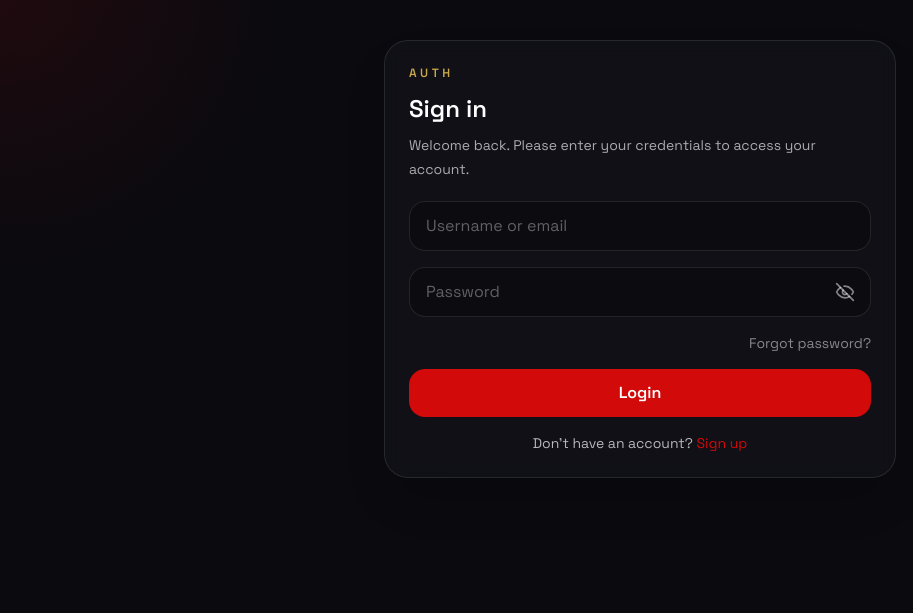
LoginPage › shows resend UI for USER_DISABLED error
The width and height of the screenshot is (913, 613).
Type "unverified" into the field with placeholder "Username or email" at (640, 226), box [409,201,871,251]
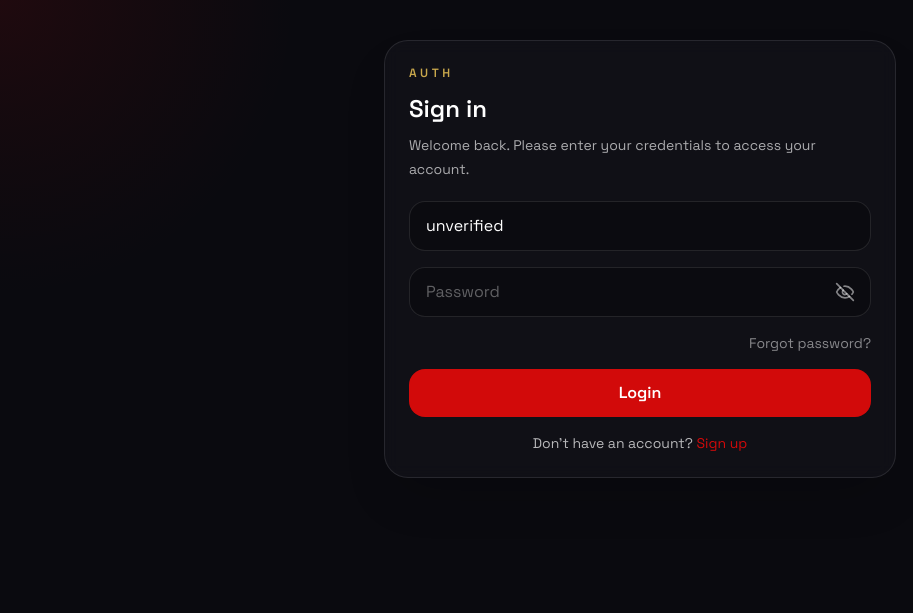
Type "pass" into the password field with placeholder "Password" at (640, 292), box [409,267,871,317]
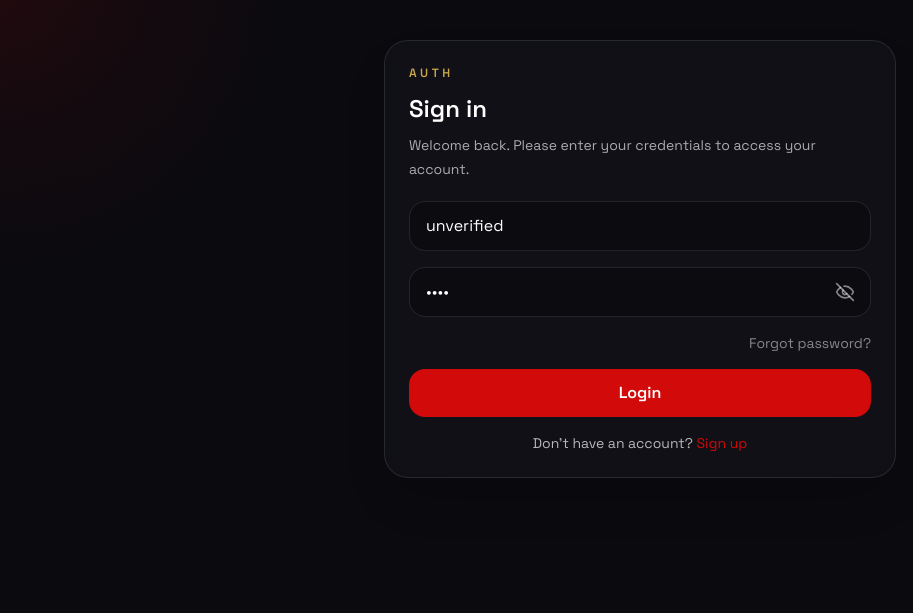
Click the button "Login" at (640, 393), box [409,369,871,417]
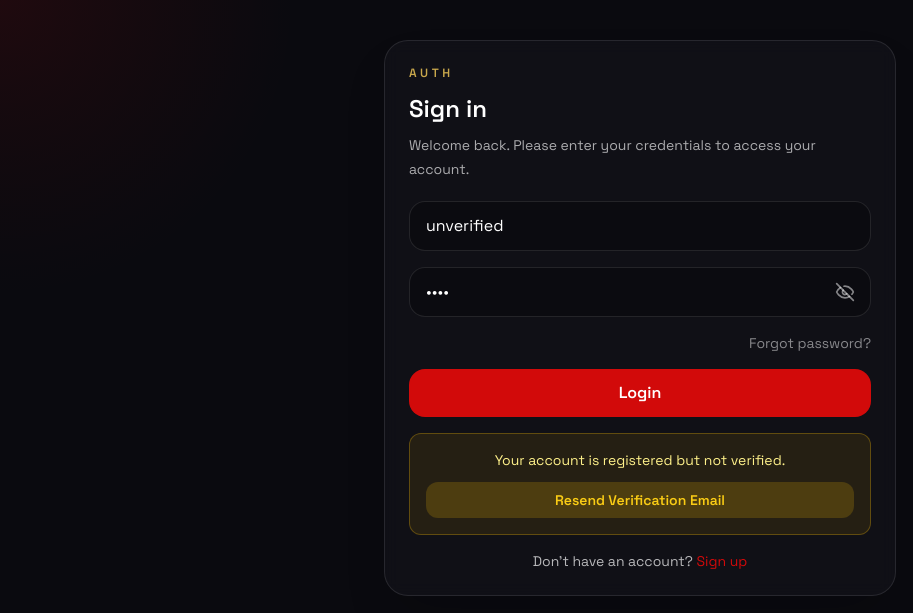
Check: the button "Resend Verification Email" is shown, box [426,482,854,518]
